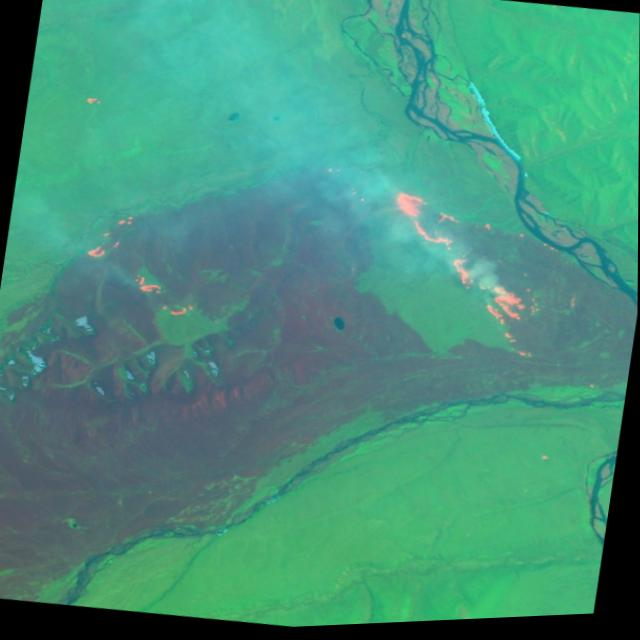fire: (364, 184, 605, 379), (72, 204, 212, 326), (74, 90, 108, 113)
